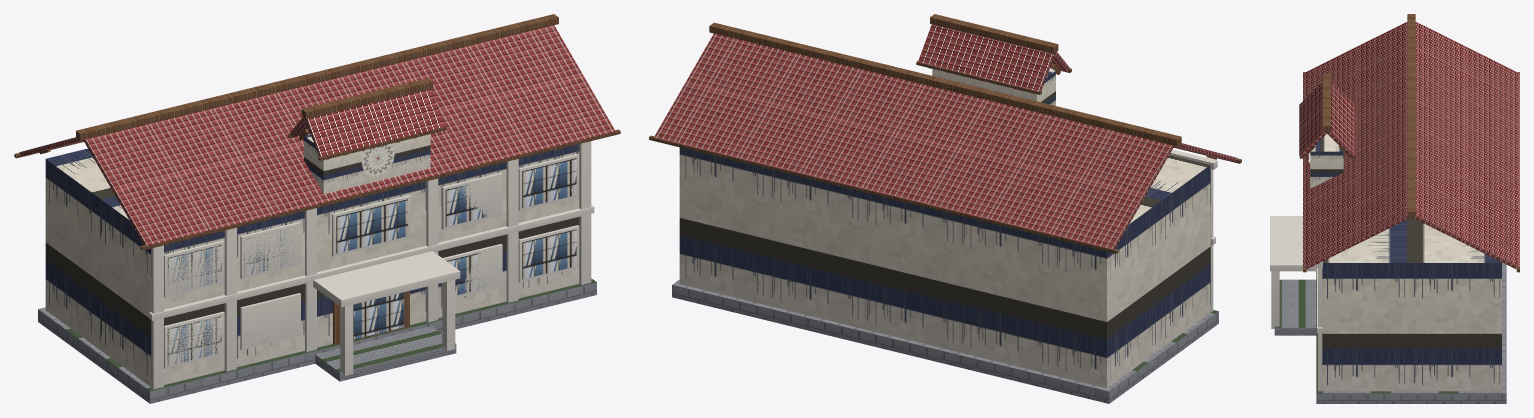
The model's file is sakura_school.glb.
3 renders of one model, left to right at view 1: azimuth 30°, elevation 25°; view 2: azimuth 150°, elevation 25°; view 3: azimuth 270°, elevation 25°, orthographic. The views are drawn at different scales.
Visible parts, largest first — view 1: sakura_school; view 2: sakura_school; view 3: sakura_school.
Part boxes in pixels (x1,y1,x2,y2): sakura_school: [14, 14, 620, 403]; sakura_school: [649, 14, 1241, 403]; sakura_school: [1270, 14, 1519, 403].
Bounding box in the file's own units: 19.69 × 9.82 × 10.51.
7 materials, 6 textured.
